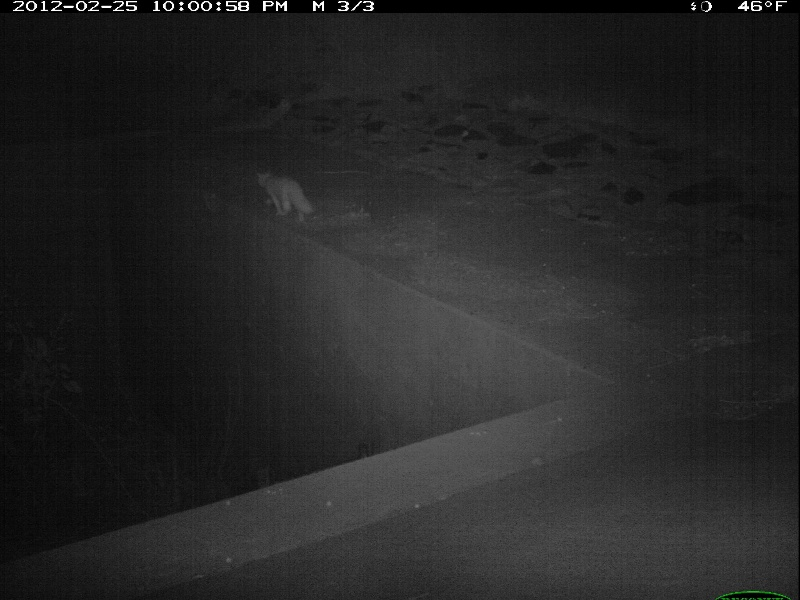cat: (251, 170, 315, 225)
